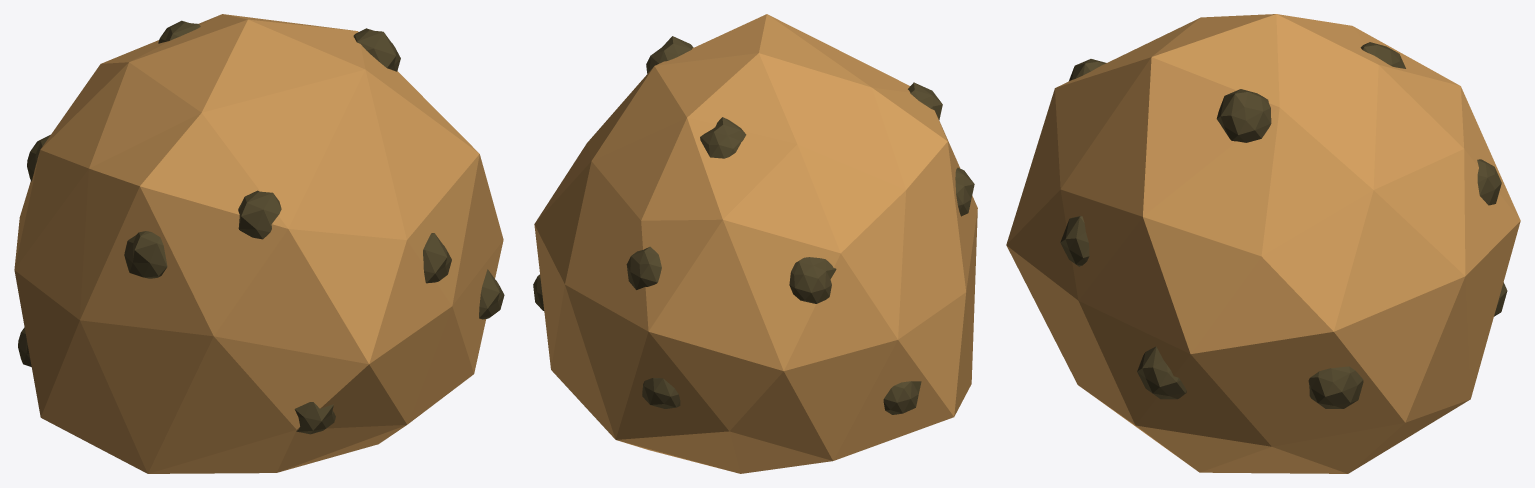
The model's file is darkCookieDoughBall.fbx.
3 renders of one model, left to right at view 1: azimuth 30°, elevation 25°; view 2: azimuth 150°, elevation 25°; view 3: azimuth 270°, elevation 25°, orthographic. The views are drawn at different scales.
Parts seen in each view (by area): view 1: Icosphere; view 2: Icosphere; view 3: Icosphere.
Part boxes in pixels (x1,y1,x2,y2): Icosphere: [14, 14, 504, 473]; Icosphere: [533, 14, 977, 473]; Icosphere: [1006, 14, 1520, 473].
Bounding box in the file's own units: 185 × 179 × 197.
